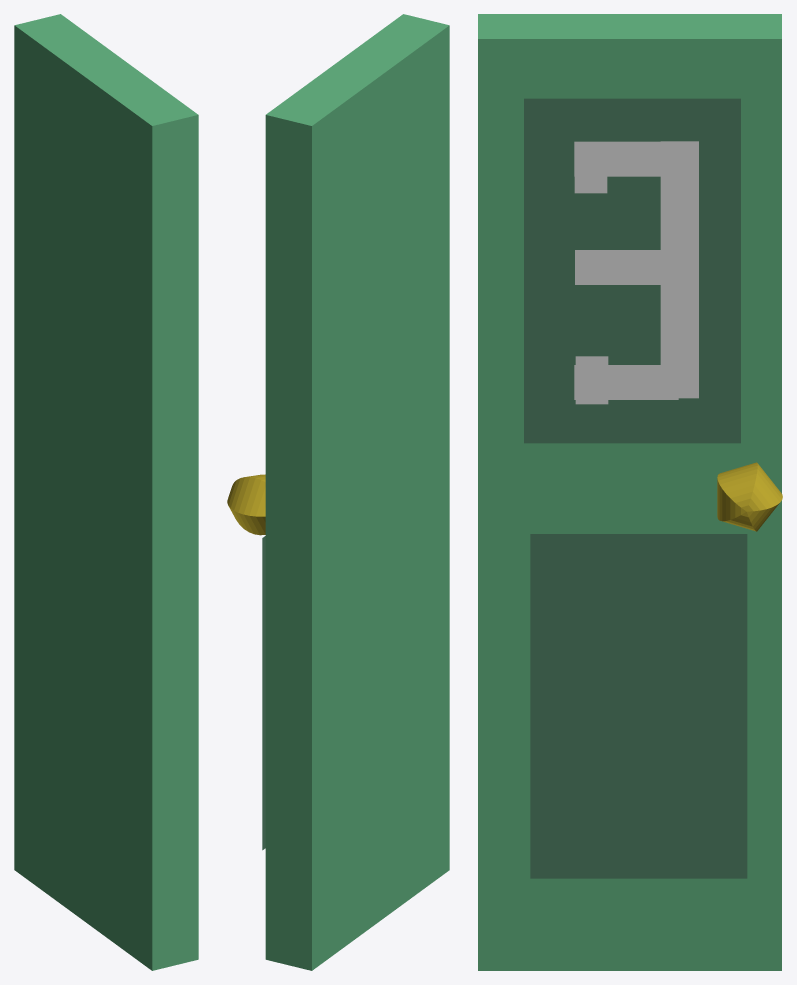
The model's file is Door3.glb.
The picture shows the model from 3 angles, left to right: view 1: azimuth 30°, elevation 25°; view 2: azimuth 150°, elevation 25°; view 3: azimuth 270°, elevation 25°; orthographic projection. The views are drawn at different scales.
Visible parts, largest first — view 1: Cube; view 2: Cube, Sphere, Plane.001; view 3: Cube, Plane.001, Plane, Sphere.
Part boxes in pixels (left/top/right/bottom): Cube: left=14, top=14, right=198, bottom=970; Cube: left=265, top=14, right=449, bottom=970; Sphere: left=227, top=474, right=265, bottom=535; Plane.001: left=262, top=536, right=265, bottom=850; Cube: left=478, top=14, right=781, bottom=970; Plane.001: left=524, top=98, right=747, bottom=878; Plane: left=574, top=141, right=698, bottom=404; Sphere: left=717, top=462, right=782, bottom=531.
Size of the model in its own units: 0.0513 by 0.4296 by 0.1273.
